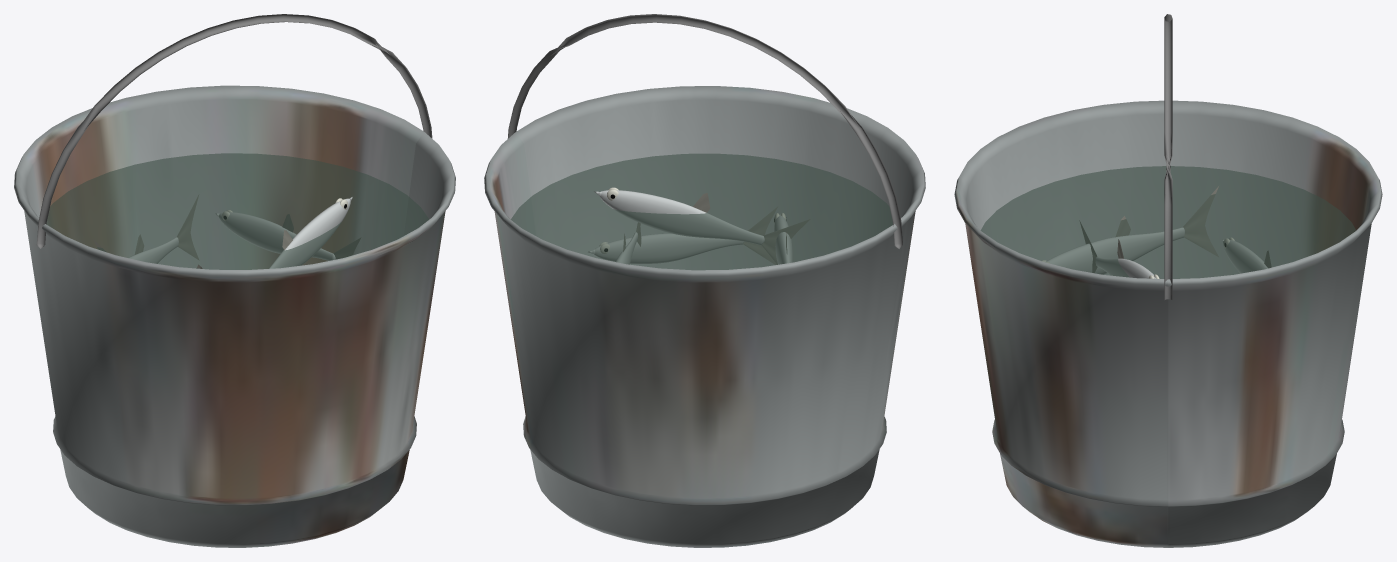
File: minnow.gltf
The picture shows the model from 3 angles, left to right: view 1: azimuth 30°, elevation 25°; view 2: azimuth 150°, elevation 25°; view 3: azimuth 270°, elevation 25°; orthographic projection. The views are drawn at different scales.
Visible parts, largest first — view 1: minnow; view 2: minnow; view 3: minnow.
Part boxes in pixels (x1,y1,x2,y2): minnow: (14, 14, 455, 547); minnow: (484, 14, 925, 547); minnow: (954, 14, 1382, 547).
Size of the model in its own units: 0.1671 by 0.1855 by 0.162.
Materials: 7 (1 with a texture image).
